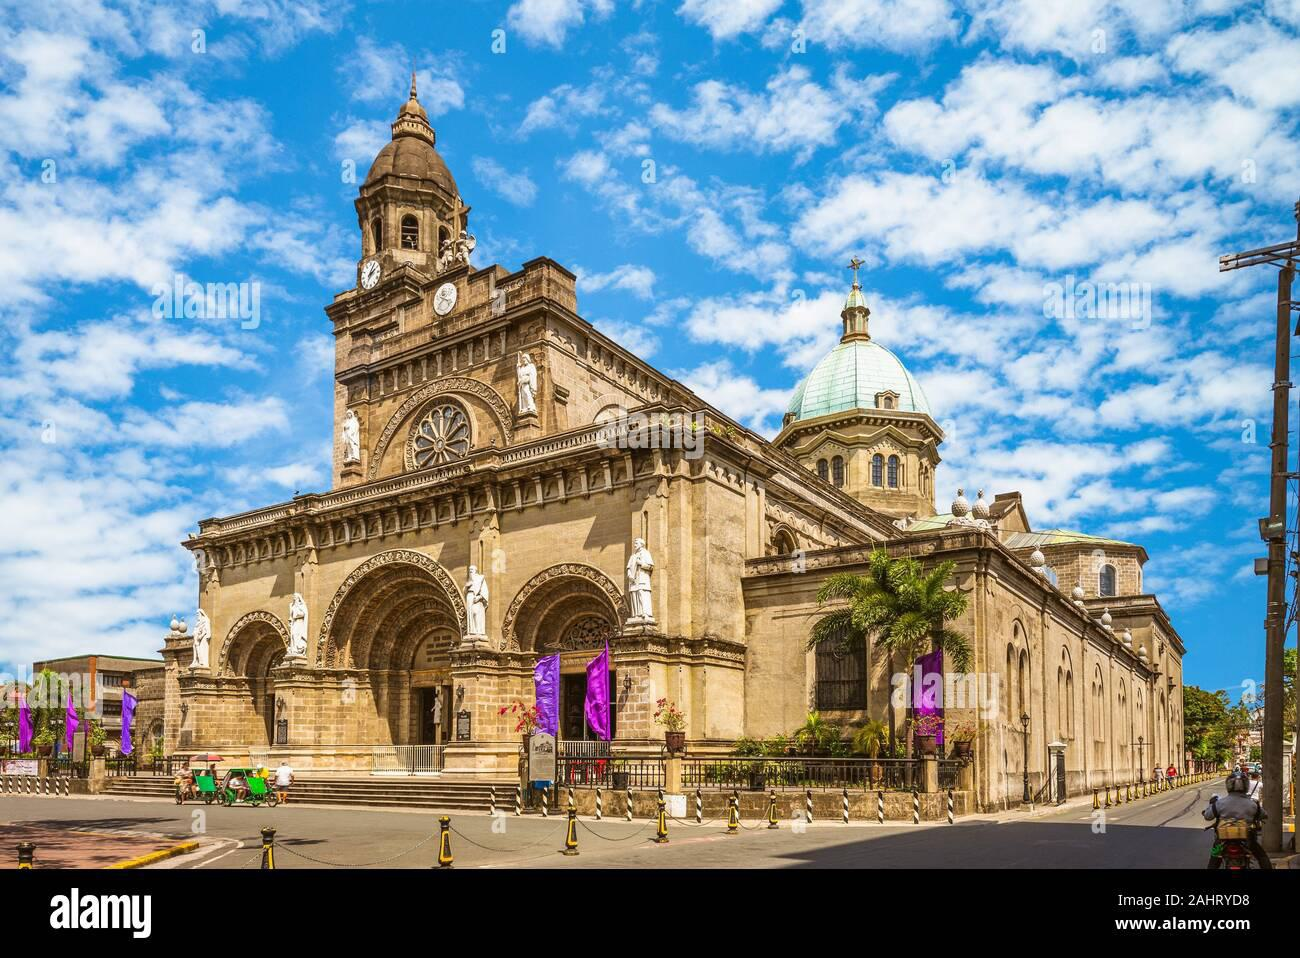manila_cathedral_church_intramuros_manila: (152, 61, 850, 792)
